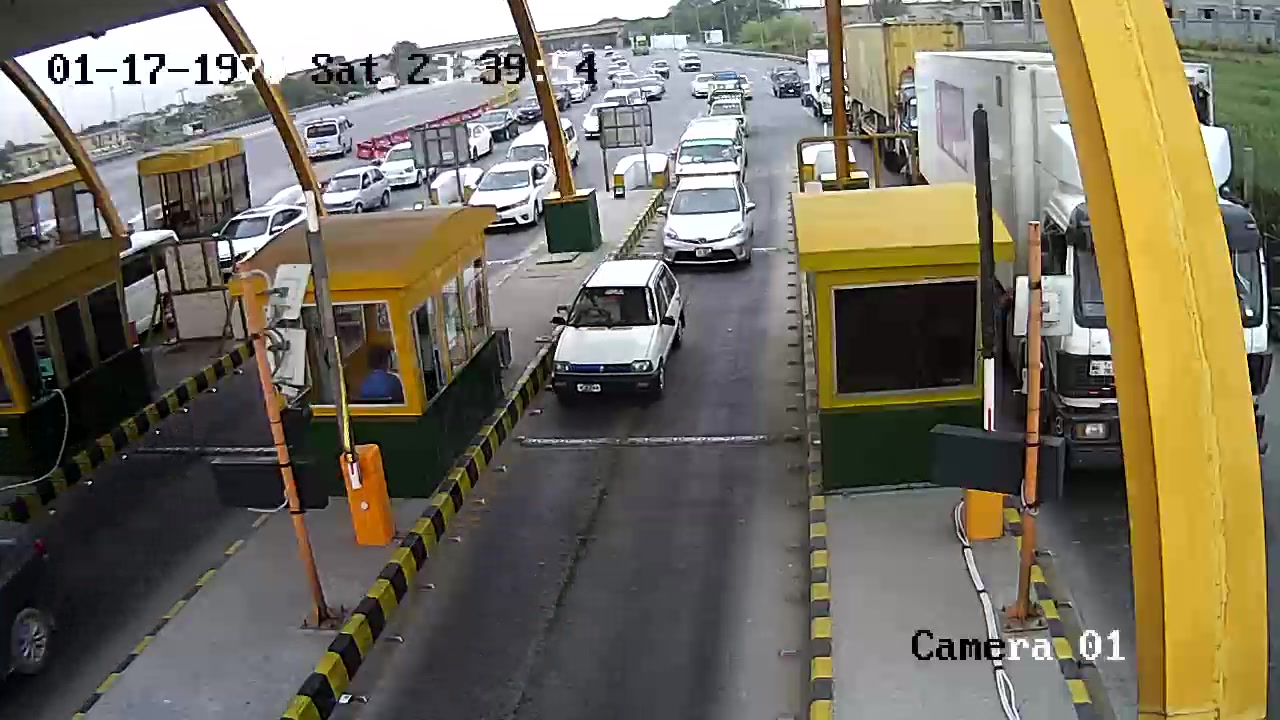F1: (535, 257, 692, 414)
